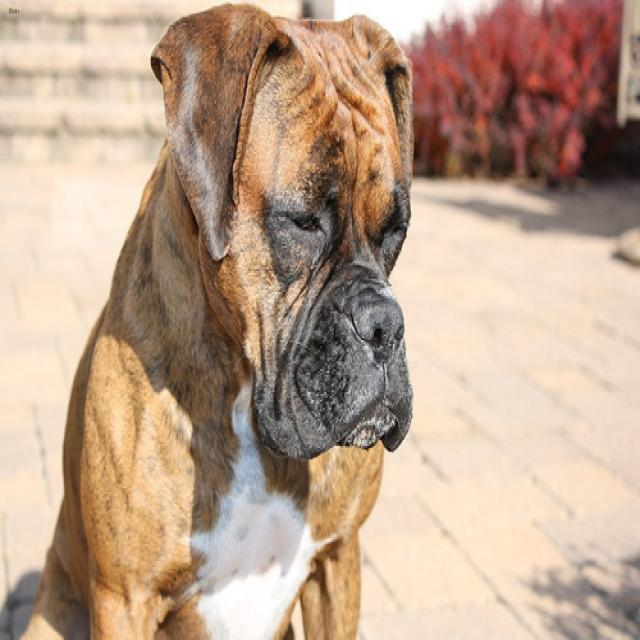dog-boxer: (15, 2, 421, 636)
